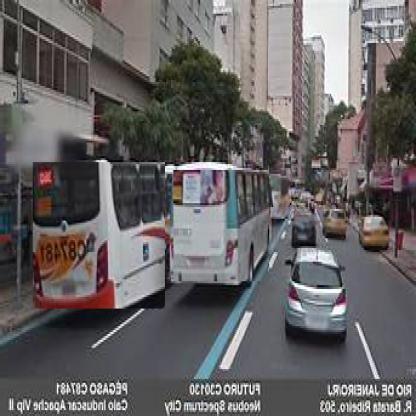bus: (32, 163, 166, 312), (173, 171, 270, 284), (270, 177, 291, 222)
car: (286, 247, 344, 339), (362, 218, 391, 251), (293, 212, 320, 245), (322, 212, 347, 241)
